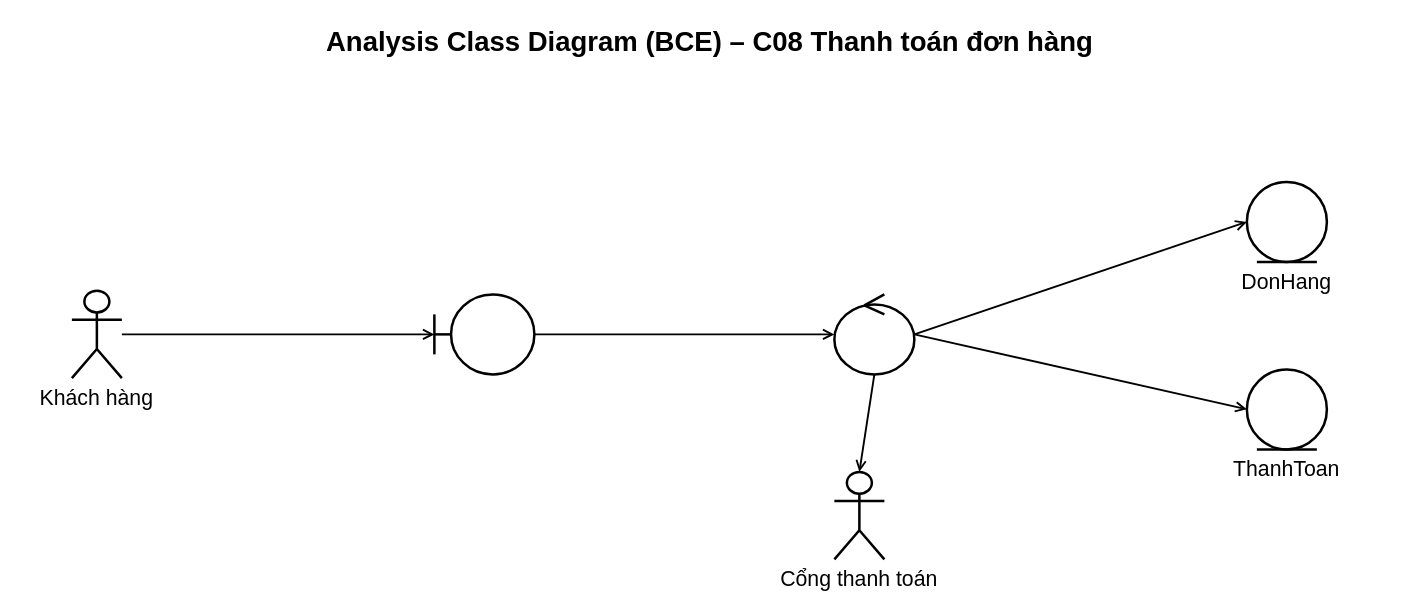
Some shapes in this 1418 by 614 pixel diagram are drawn without their labels. The shapes that lost their labels are listed below. From the top down, each one's box as (x1, y1, x2, y2) in pixels, then its label:
(432, 292, 535, 375): ThanhToanPage
(832, 292, 915, 375): ThanhToanController
